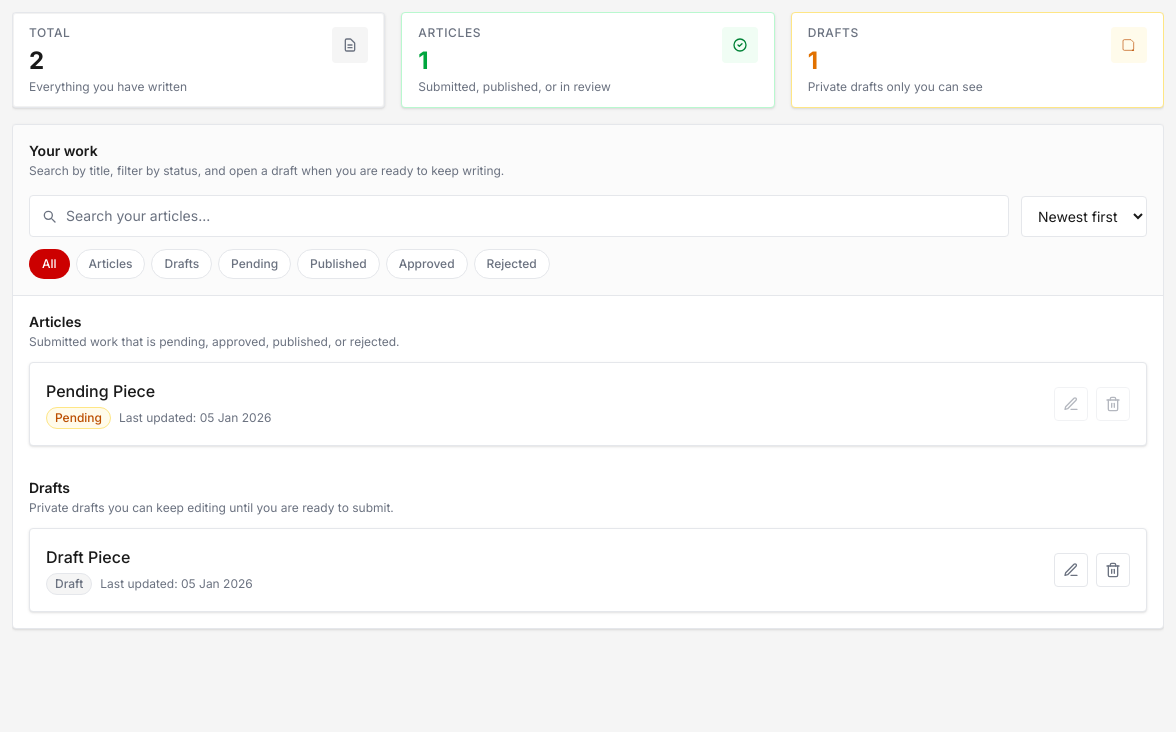
MyArticlesList › filters to drafts when the Drafts widget is clicked
Expected: the element with test id "article-card-draft1" is shown, [29, 528, 1147, 612]
Click the button with test id "widget-my-articles-drafts" at [833, 32], box [791, 12, 1164, 108]
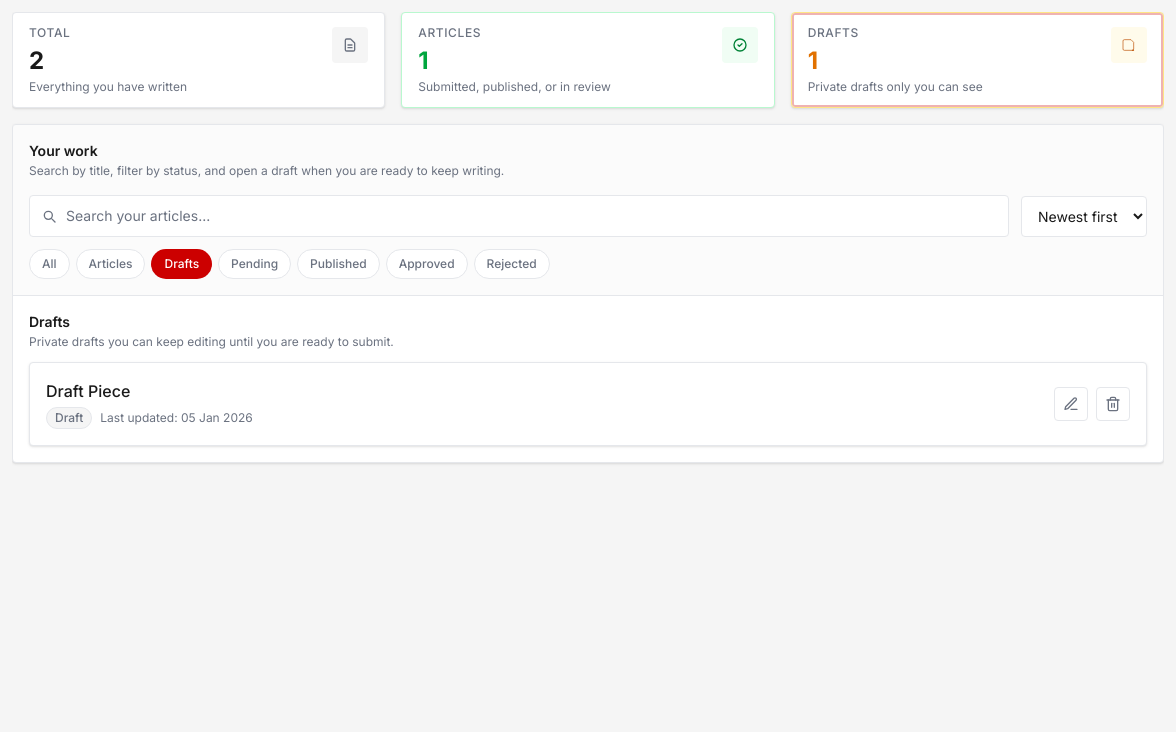
Expected: the element with test id "article-card-draft1" is shown, [29, 362, 1147, 446]
Now the element with test id "article-card-pend1" is gone
Now the element with test id "my-articles-articles-section" is gone
